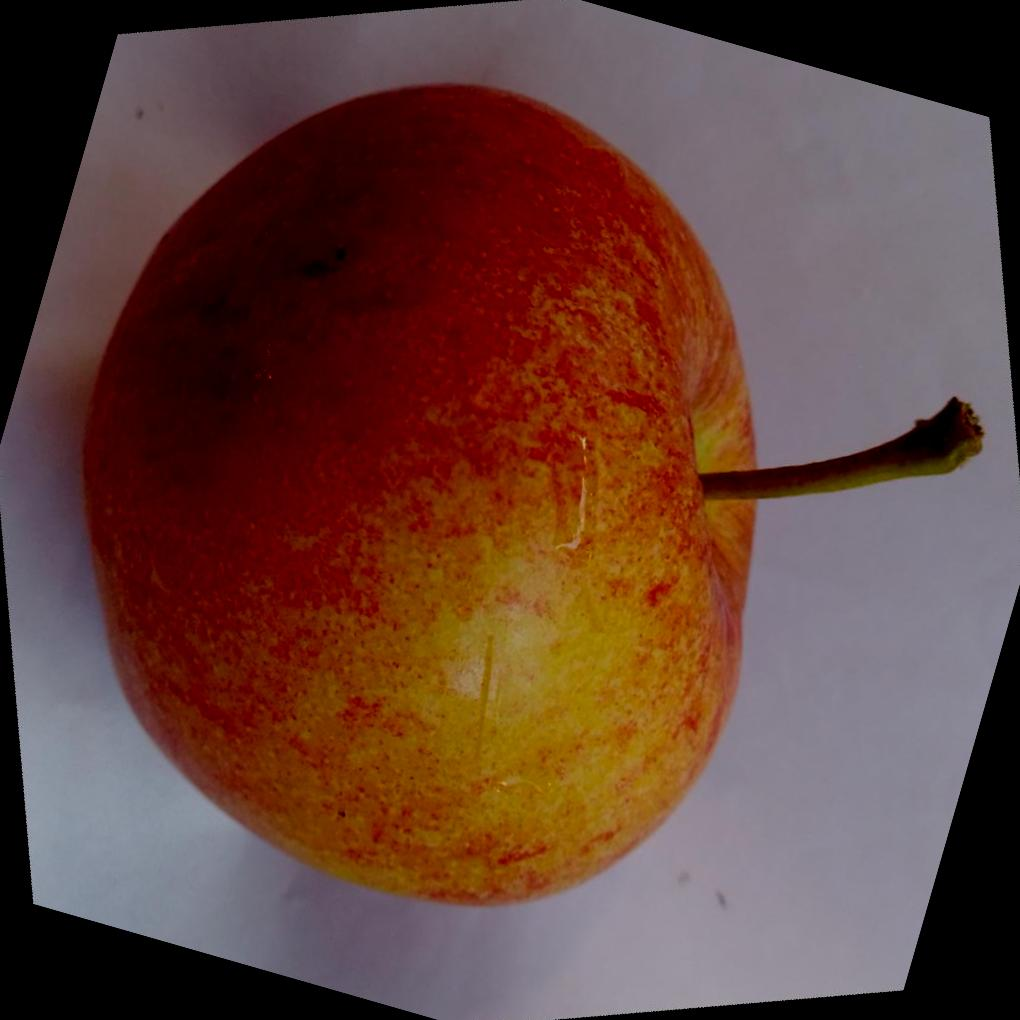FreshGuava: (76, 81, 979, 908)
